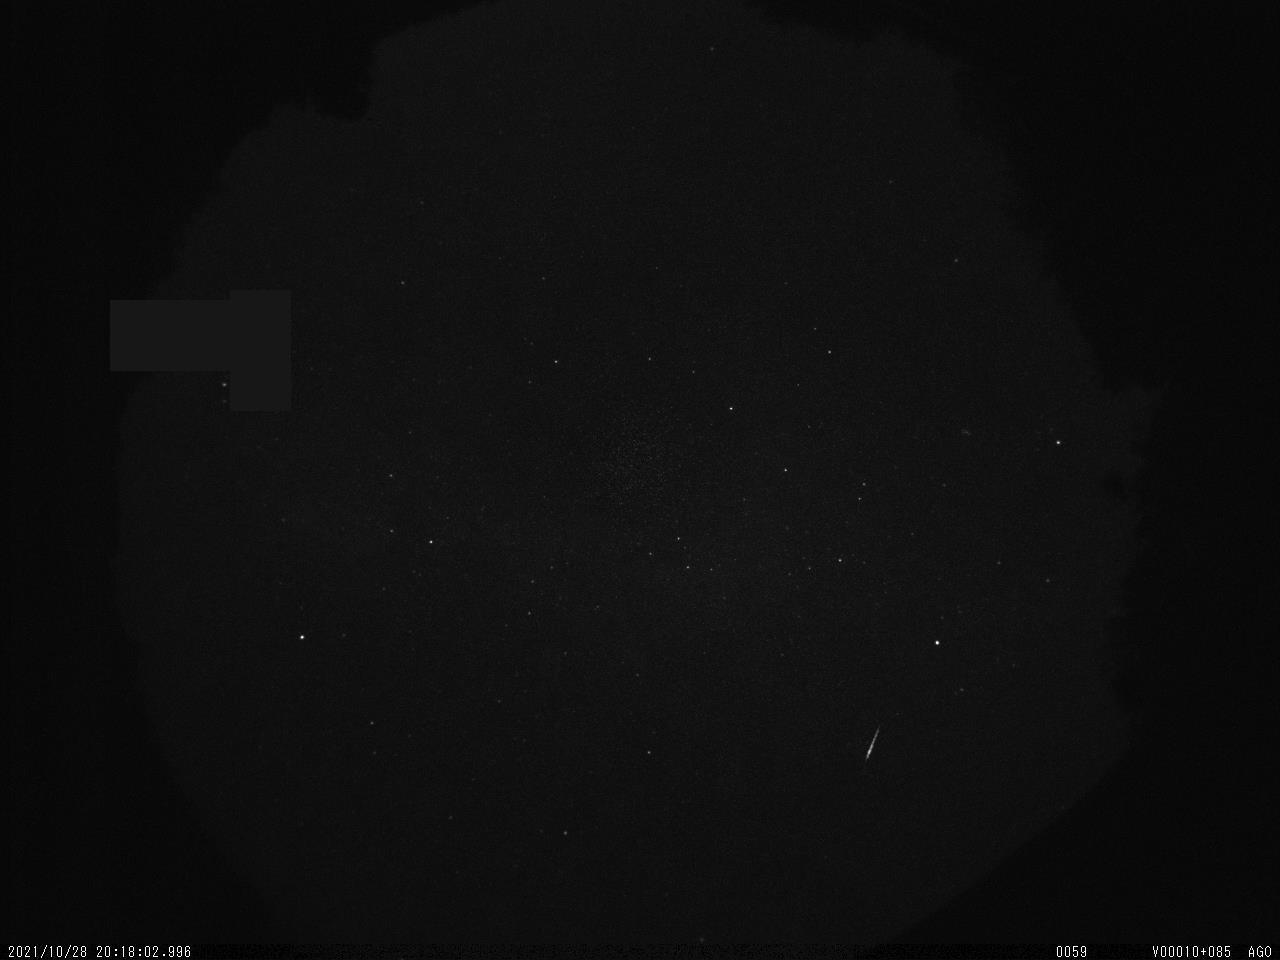meteor: (856, 719, 896, 774)
